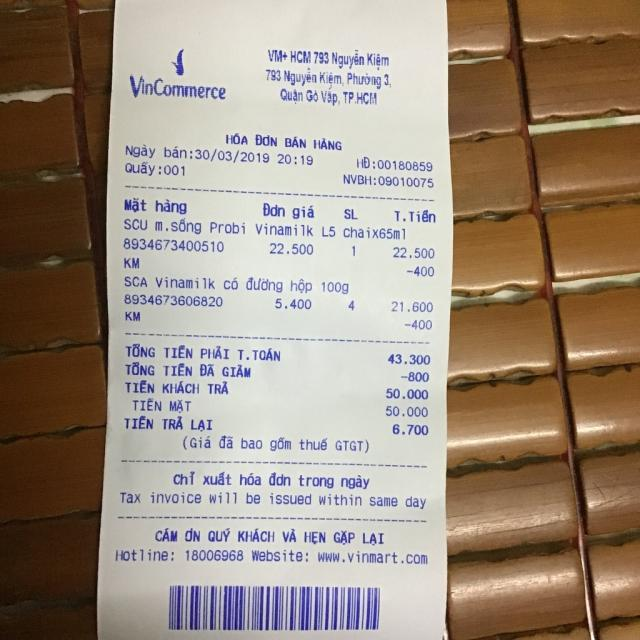Date: (195, 142, 270, 166)
Store_Name: (125, 71, 232, 110)
amount_number: (383, 349, 434, 368)
label_total: (123, 339, 284, 365)
